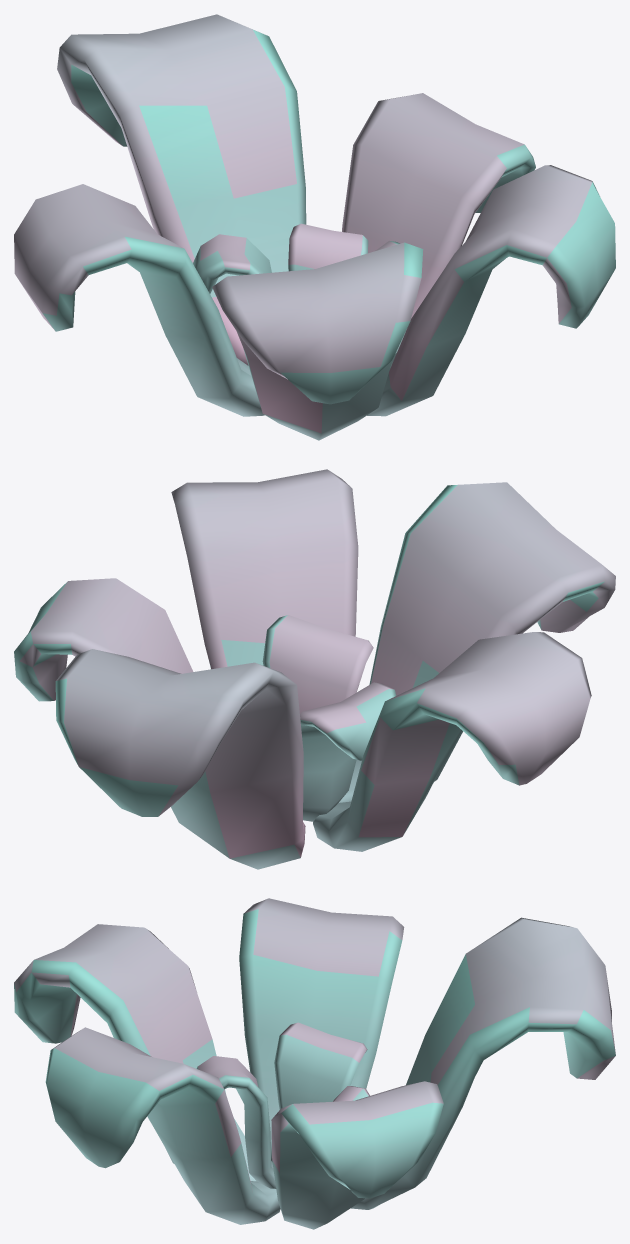
File: pequeno_coral07.fbx
The picture shows the model from 3 angles, top to bottom: view 1: azimuth 30°, elevation 25°; view 2: azimuth 150°, elevation 25°; view 3: azimuth 270°, elevation 25°; orthographic projection. The views are drawn at different scales.
Visible parts, largest first — view 1: Coralillo; view 2: Coralillo; view 3: Coralillo.
Boxes of the visible parts, <box> form: Coralillo: <box>14,14,615,440</box>; Coralillo: <box>14,469,615,869</box>; Coralillo: <box>14,898,615,1229</box>.
Bounding box in the file's own units: 797 × 423 × 910.
1 material, 1 textured.
